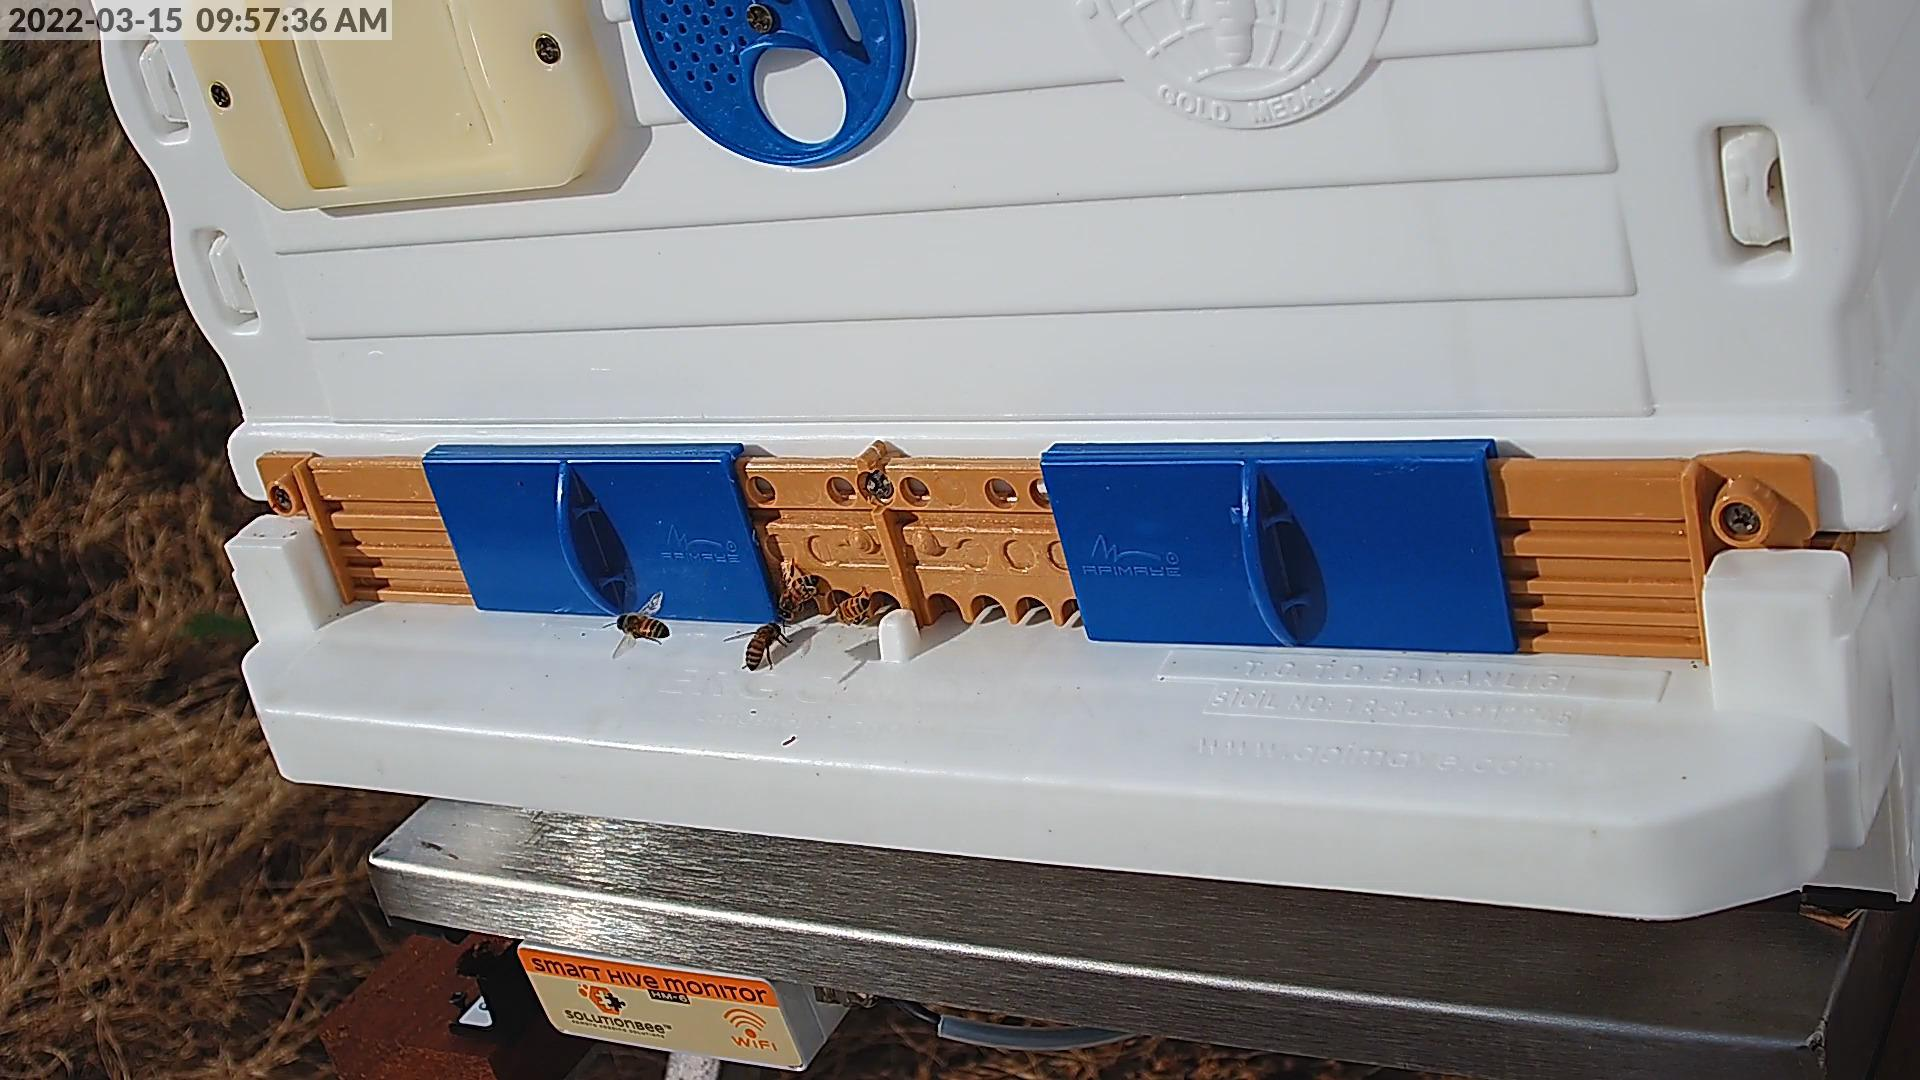bee: (778, 578, 820, 620), (748, 625, 781, 670), (617, 616, 671, 638), (833, 595, 870, 625)
